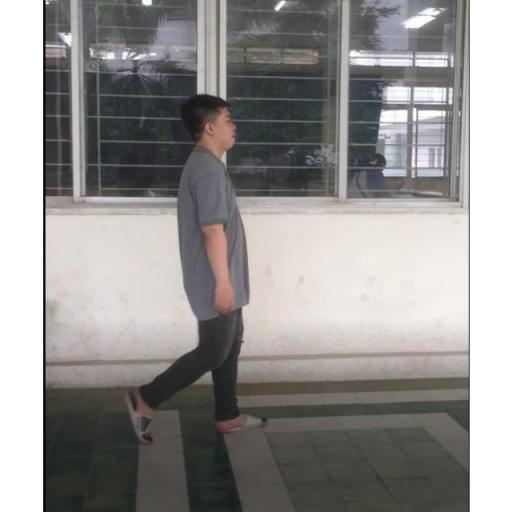Running: (117, 89, 272, 444)
